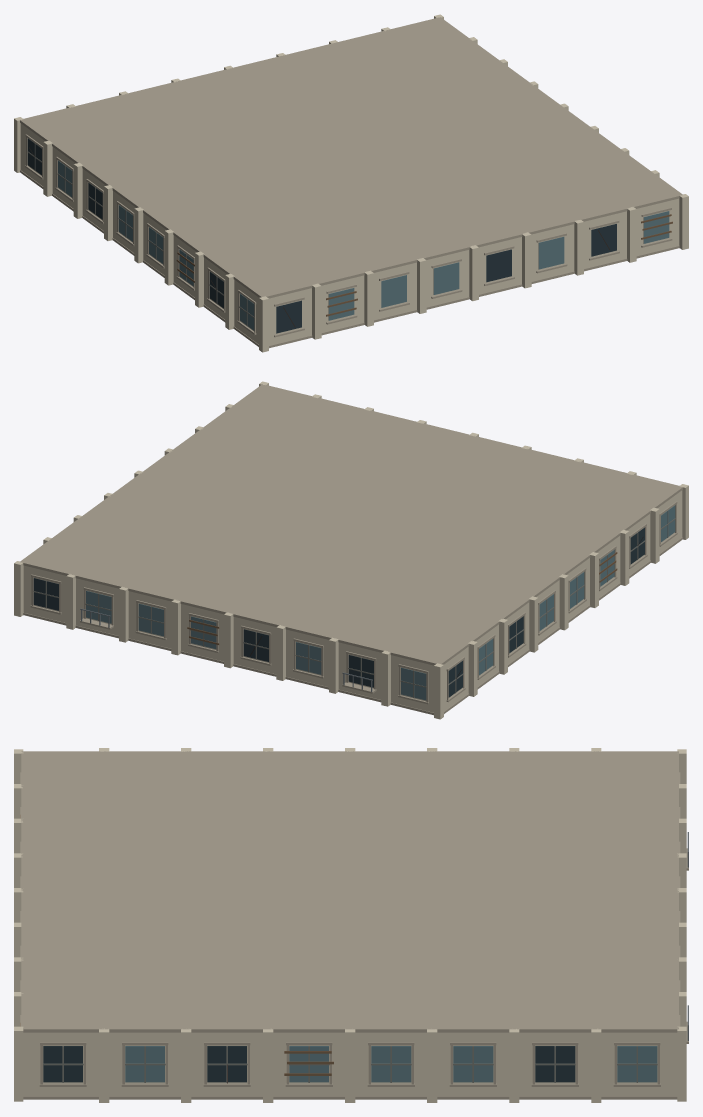
Rendered from tw_stone_32_floor.glb.
3 renders of one model, top to bottom at view 1: azimuth 30°, elevation 25°; view 2: azimuth 150°, elevation 25°; view 3: azimuth 270°, elevation 25°, orthographic. The views are drawn at different scales.
Visible parts, largest first — view 1: tw_stone_32_floor; view 2: tw_stone_32_floor; view 3: tw_stone_32_floor.
Part boxes in pixels (left/top/right/bottom): tw_stone_32_floor: left=14, top=14, right=688, bottom=352; tw_stone_32_floor: left=14, top=381, right=688, bottom=719; tw_stone_32_floor: left=14, top=748, right=688, bottom=1102.
Bounding box in the file's own units: 32.99 × 3.8 × 32.92.
Materials: 3 (3 with a texture image).
